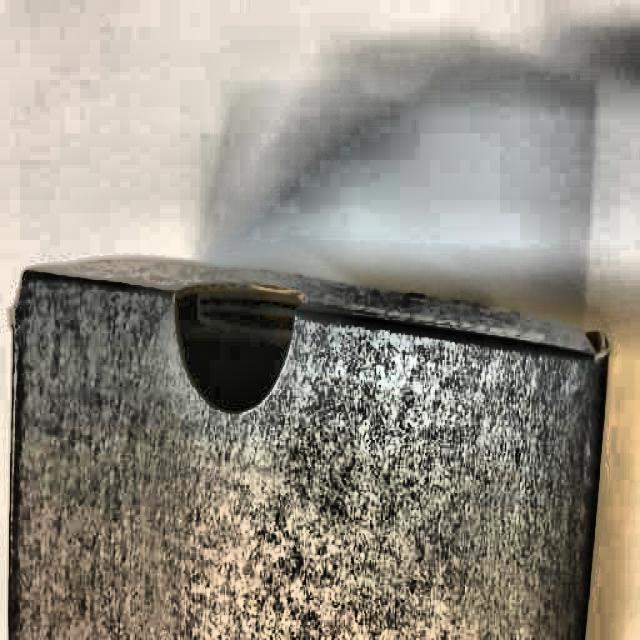cardboard: (10, 256, 613, 640)
